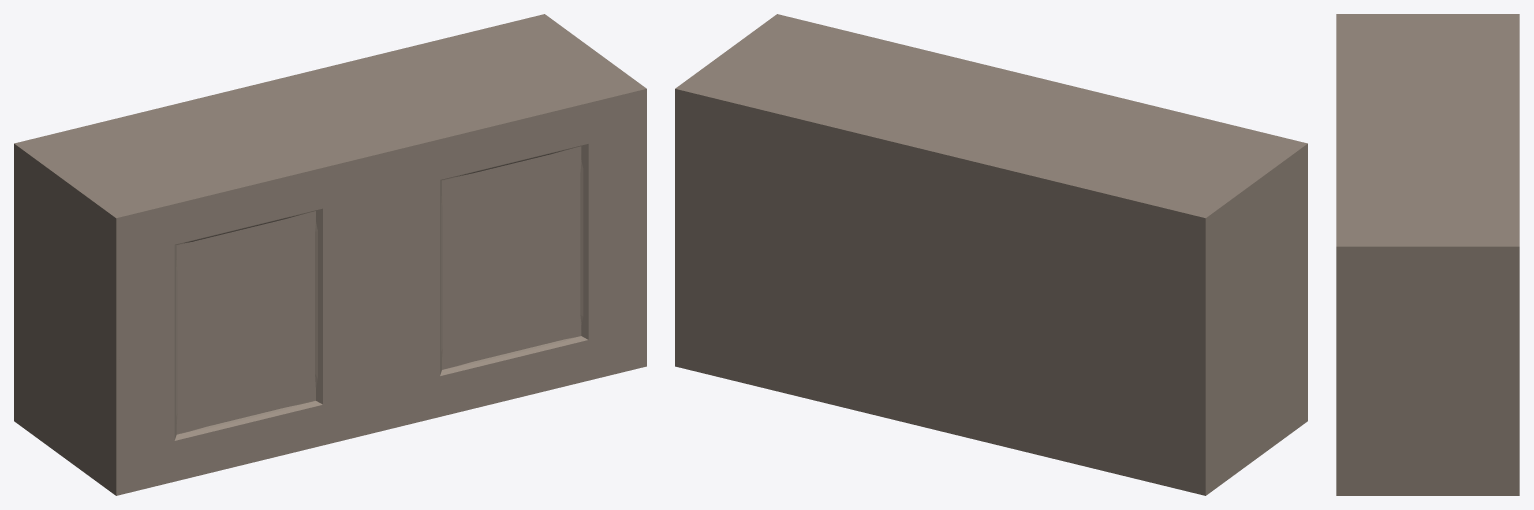
The model's file is Wall-Cabinet-18-High-12-Deep_std_001_W36in.glb.
3 renders of one model, left to right at view 1: azimuth 30°, elevation 25°; view 2: azimuth 150°, elevation 25°; view 3: azimuth 270°, elevation 25°, orthographic. The views are drawn at different scales.
Visible parts, largest first — view 1: Wall-Cabinet-18-High-12-Deep.std.001_W36in; view 2: Wall-Cabinet-18-High-12-Deep.std.001_W36in; view 3: Wall-Cabinet-18-High-12-Deep.std.001_W36in.
Boxes of the visible parts, <box> form: Wall-Cabinet-18-High-12-Deep.std.001_W36in: <box>14,14,646,495</box>; Wall-Cabinet-18-High-12-Deep.std.001_W36in: <box>675,14,1307,495</box>; Wall-Cabinet-18-High-12-Deep.std.001_W36in: <box>1336,14,1519,495</box>.
Bounding box in the file's own units: 0.9144 × 0.4572 × 0.3048.
